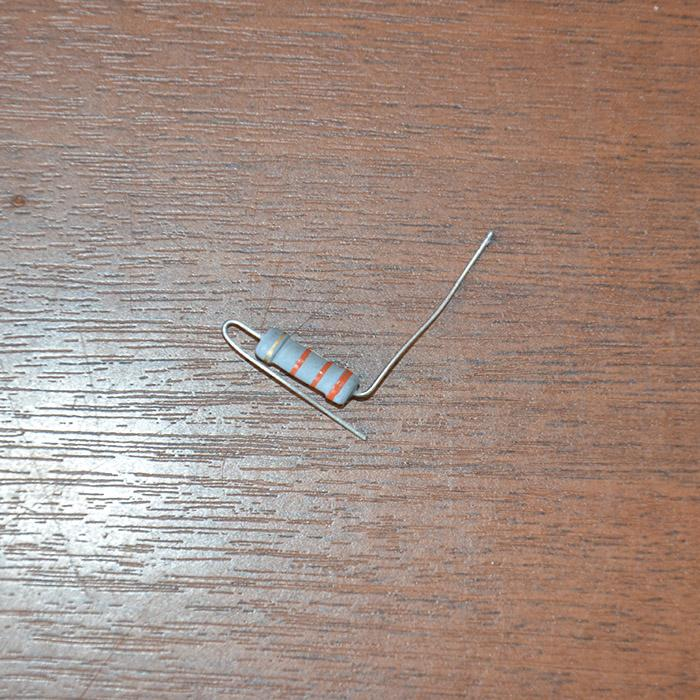resistor: (252, 326, 359, 406)
